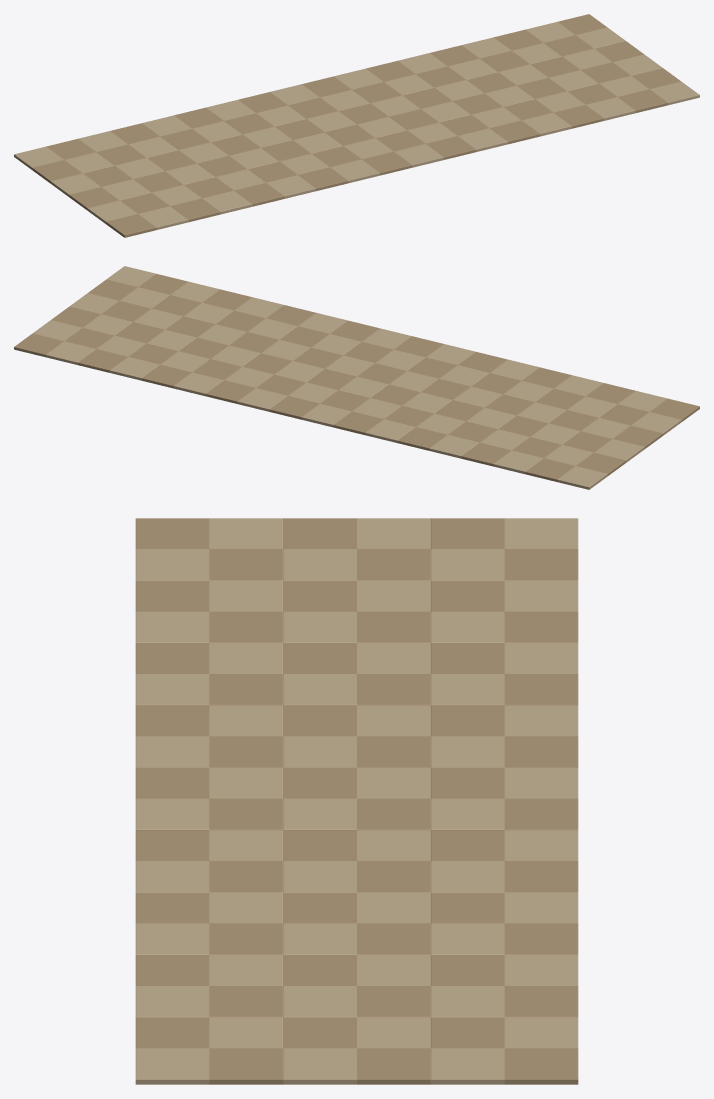
Rendered from floor-customer.glb.
3 renders of one model, top to bottom at view 1: azimuth 30°, elevation 25°; view 2: azimuth 150°, elevation 25°; view 3: azimuth 270°, elevation 25°, orthographic. The views are drawn at different scales.
Visible parts, largest first — view 1: floor-customer; view 2: floor-customer; view 3: floor-customer.
Boxes of the visible parts, x1,y1,x2,y2 form: floor-customer: (14,14,699,237); floor-customer: (14,266,699,489); floor-customer: (135,518,578,1084).
Bounding box in the file's own units: 9 × 0.04 × 3.
